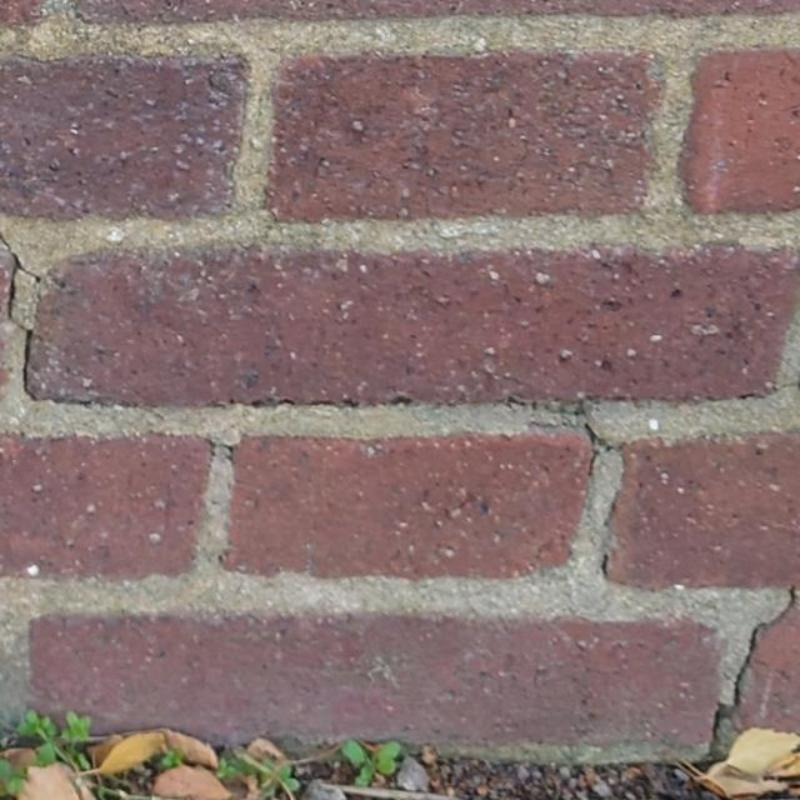crack: (710, 584, 798, 739), (0, 231, 42, 402), (582, 421, 629, 477), (600, 550, 610, 581), (212, 442, 235, 451)
